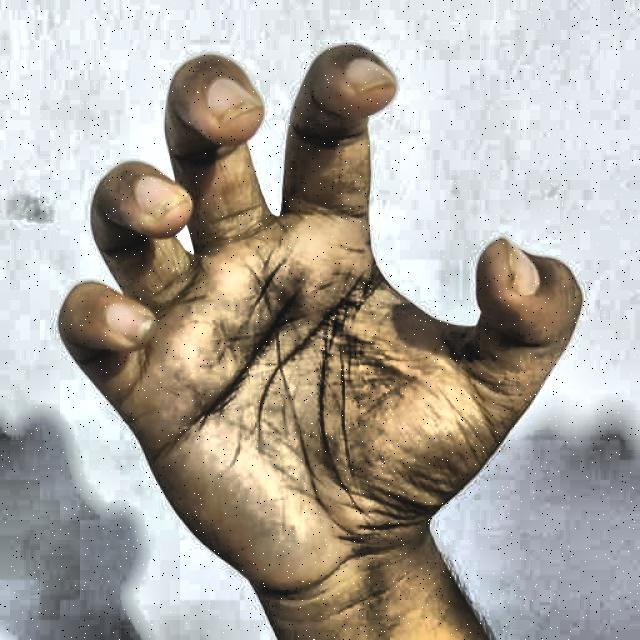Ja: (39, 19, 596, 638)
